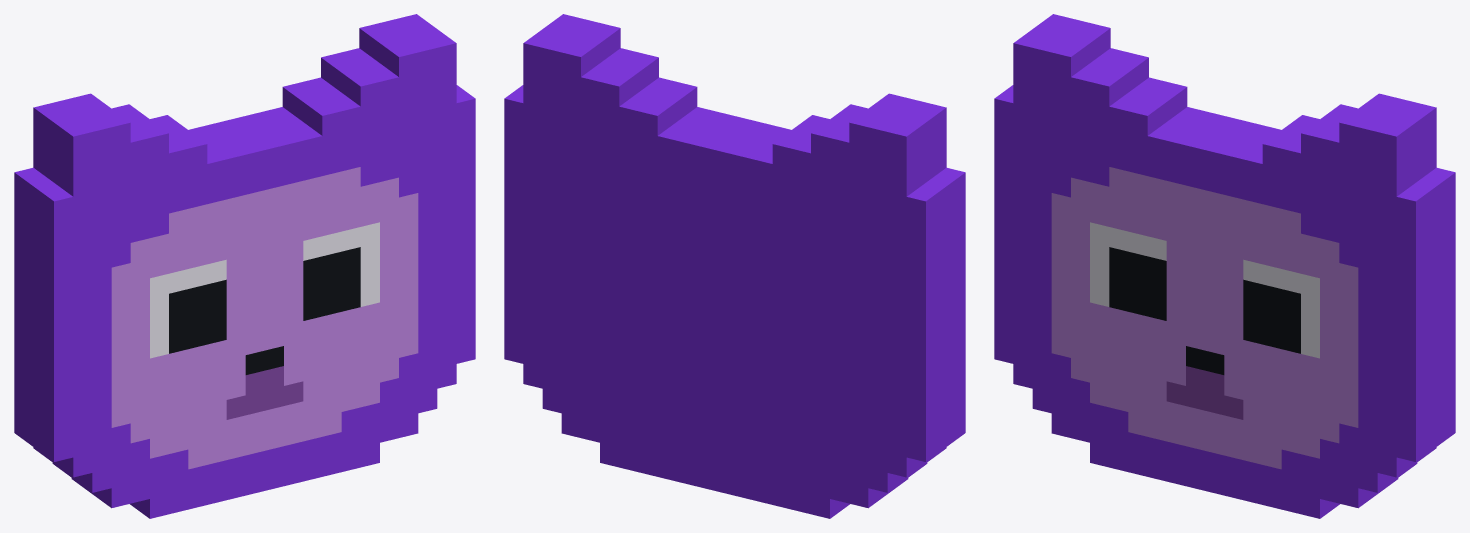
File: campus_pixel_mona_v01.glb
3 renders of one model, left to right at view 1: azimuth 30°, elevation 25°; view 2: azimuth 150°, elevation 25°; view 3: azimuth 330°, elevation 25°, orthographic.
Visible parts, largest first — view 1: pixel_mona; view 2: pixel_mona; view 3: pixel_mona.
Boxes of the visible parts, <box> form: pixel_mona: <box>14,14,475,518</box>; pixel_mona: <box>504,14,965,518</box>; pixel_mona: <box>994,14,1455,518</box>.
Bounding box in the file's own units: 0.55 × 0.5 × 0.09.
Materials: 1 (1 with a texture image).
